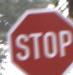Stop sign: (0, 0, 72, 74)
